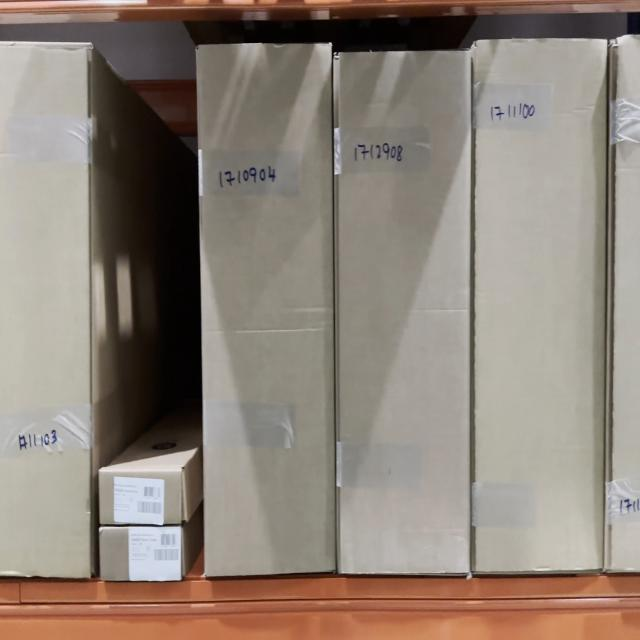box: (336, 52, 473, 574), (477, 39, 608, 570), (202, 49, 334, 568), (99, 466, 182, 524), (101, 523, 186, 579)
